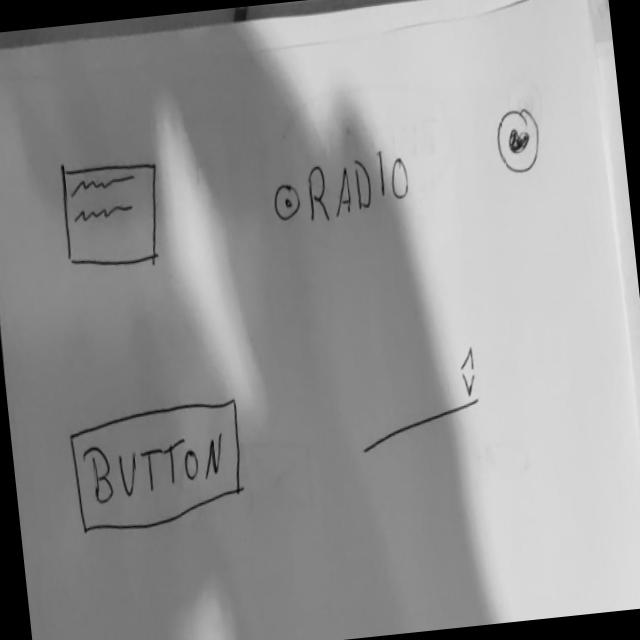button: (66, 396, 251, 540)
icon-button: (493, 104, 546, 179)
number-input: (352, 341, 488, 460)
radio: (269, 147, 415, 234)
textarea: (57, 154, 169, 275)
